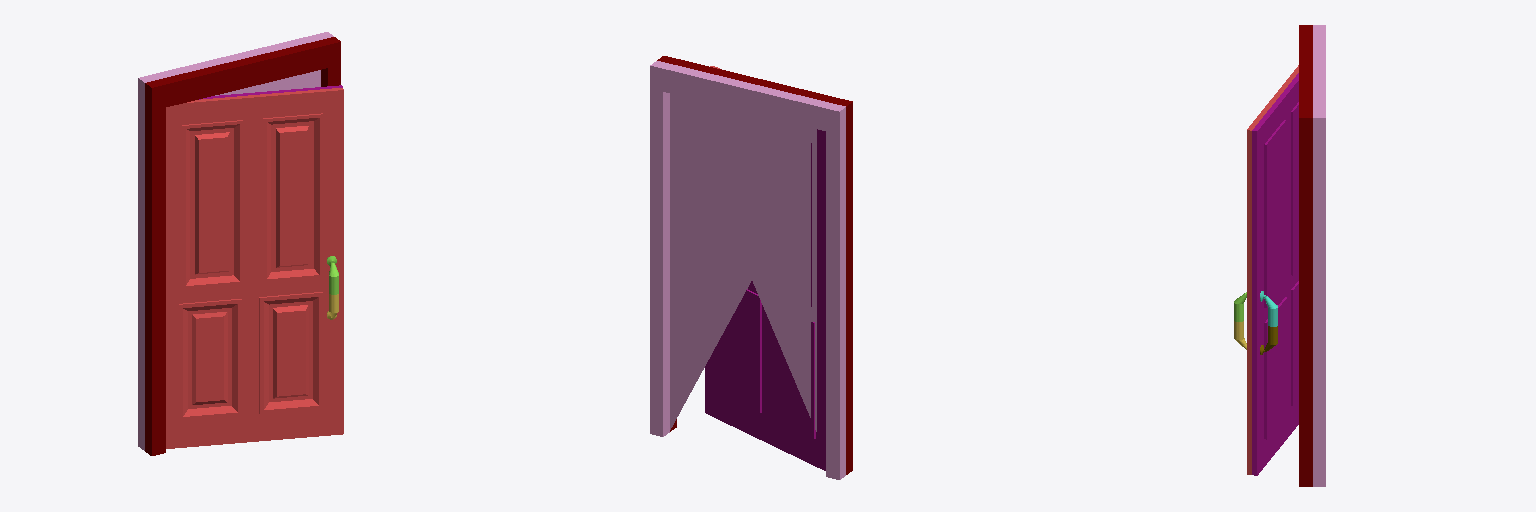
3 views of the same model, side by side, from view 1: azimuth 30°, elevation 25°; view 2: azimuth 150°, elevation 25°; view 3: azimuth 270°, elevation 25° (orthographic).
Parts seen in each view (by area): view 1: Door___Half__002, Frame___Half__001, Frame___Half__002; view 2: Frame___Half__002, Door___Half__001, Frame___Half__001; view 3: Door___Half__001, Frame___Half__001, Frame___Half__002, Door___Half__002.
Boxes of the visible parts, x1,y1,x2,y2 form: Door___Half__002: [166, 88, 343, 448]; Frame___Half__001: [145, 37, 340, 455]; Frame___Half__002: [138, 32, 333, 450]; Frame___Half__002: [650, 61, 845, 479]; Door___Half__001: [705, 129, 825, 470]; Frame___Half__001: [657, 56, 852, 474]; Door___Half__001: [1252, 73, 1298, 475]; Frame___Half__001: [1299, 25, 1312, 486]; Frame___Half__002: [1313, 25, 1325, 486]; Door___Half__002: [1247, 65, 1298, 474].
Size of the model in its own units: 64.44 by 120 by 27.29.